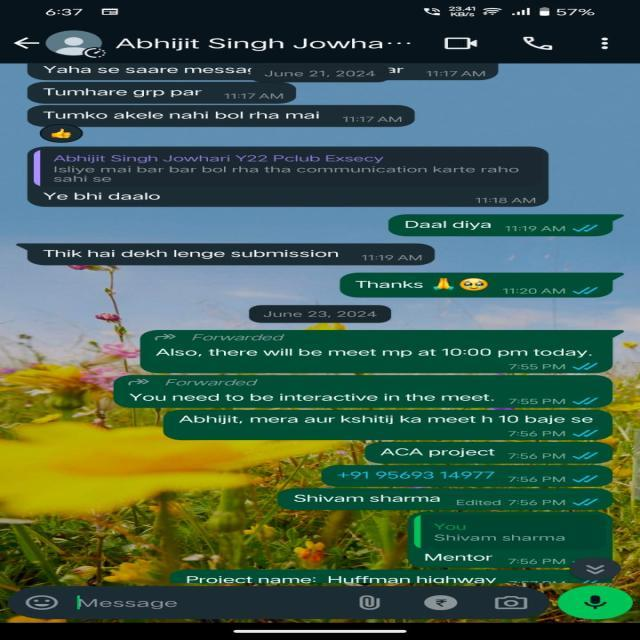scam: (32, 106, 342, 125), (41, 246, 346, 265), (34, 60, 271, 80), (41, 187, 187, 205), (46, 85, 215, 99)
